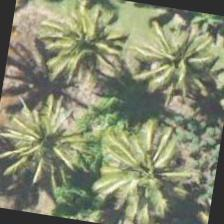Kelapa_Sawit: (97, 110, 200, 213), (0, 89, 102, 193), (128, 11, 223, 115), (32, 0, 136, 90)
